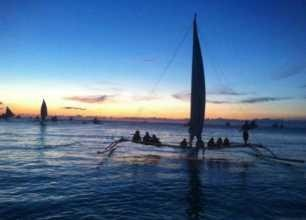fanchuan: (100, 9, 275, 160)
